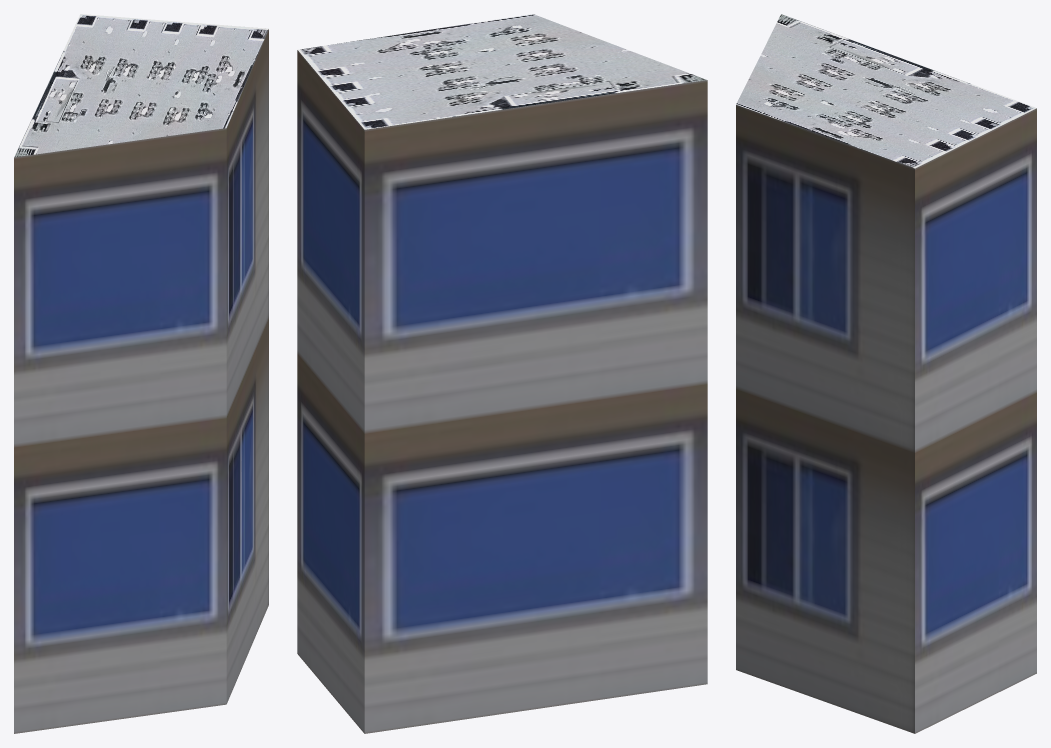
The model's file is ResTex__1228.fbx.
3 views of the same model, side by side, from view 1: azimuth 30°, elevation 25°; view 2: azimuth 150°, elevation 25°; view 3: azimuth 270°, elevation 25° (orthographic). The views are drawn at different scales.
Visible parts, largest first — view 1: CityEngineMaterial_23_m, CityEngineMaterial_m; view 2: CityEngineMaterial_23_m, CityEngineMaterial_m; view 3: CityEngineMaterial_23_m, CityEngineMaterial_m.
Part boxes in pixels (x1,y1,x2,y2): CityEngineMaterial_23_m: (14,29,268,733); CityEngineMaterial_m: (14,14,268,157); CityEngineMaterial_23_m: (297,50,707,733); CityEngineMaterial_m: (298,14,706,129); CityEngineMaterial_23_m: (736,105,1036,733); CityEngineMaterial_m: (736,14,1036,168).
Size of the model in its own units: 3.52 by 6 by 2.89.
2 materials, 2 textured.
